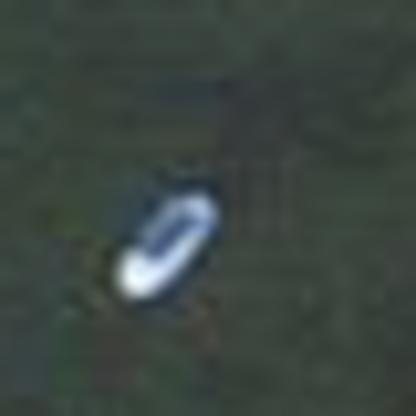ship: (96, 172, 244, 315)
